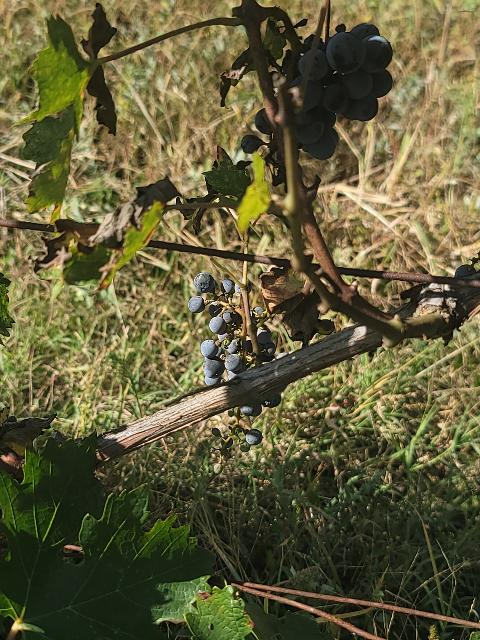grapes: (295, 22, 392, 160), (211, 392, 281, 474), (189, 295, 248, 386)
